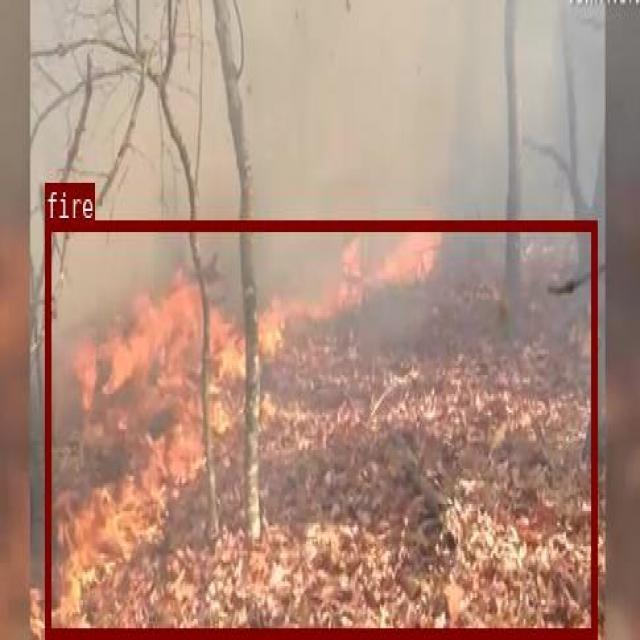fire: (44, 220, 595, 635)
